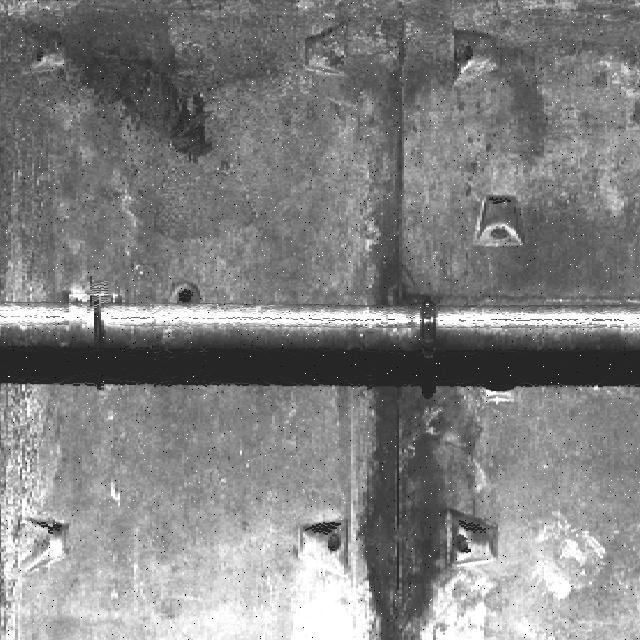leakage: (343, 378, 491, 639), (354, 37, 440, 305)
